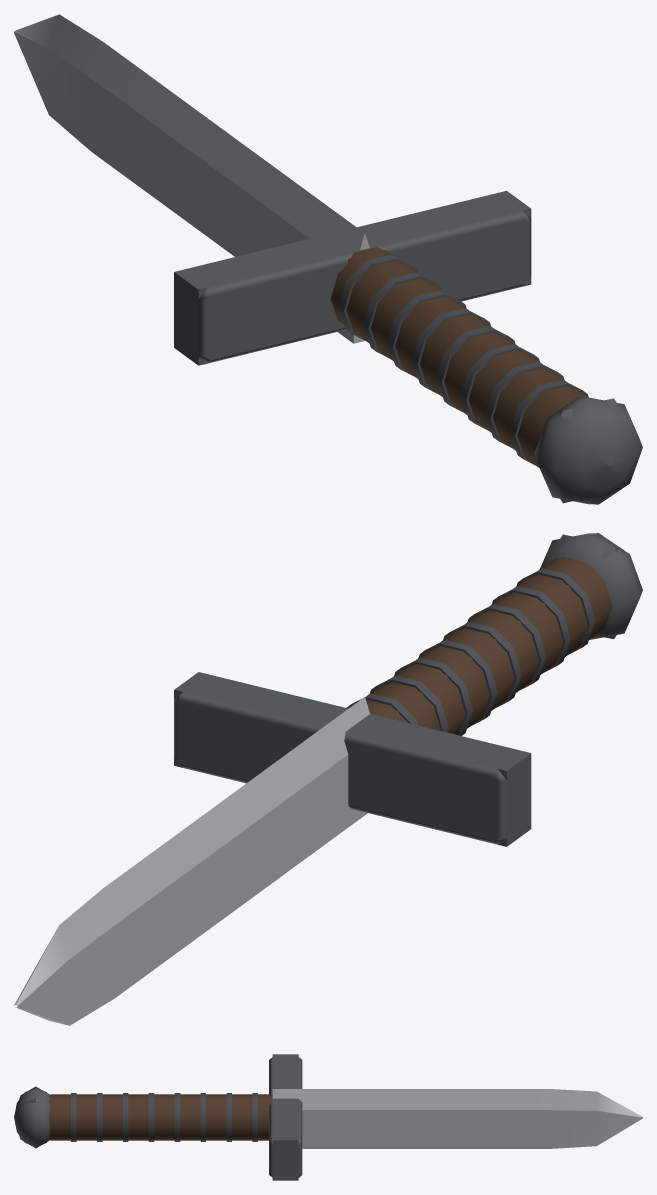
Rendered from m_dagger.glb.
3 renders of one model, top to bottom at view 1: azimuth 30°, elevation 25°; view 2: azimuth 150°, elevation 25°; view 3: azimuth 270°, elevation 25°, orthographic. The views are drawn at different scales.
Parts seen in each view (by area): view 1: L0, L1; view 2: L0, L1; view 3: L0, L1.
Part boxes in pixels (box(x1,y1,x2,y2)): L0: box(14, 14, 642, 504); L1: box(174, 190, 639, 503); L0: box(14, 533, 642, 1025); L1: box(174, 534, 617, 846); L0: box(14, 1056, 642, 1177); L1: box(19, 1054, 298, 1180).
Bounding box in the file's own units: 0.11 × 0.034 × 0.3398.
